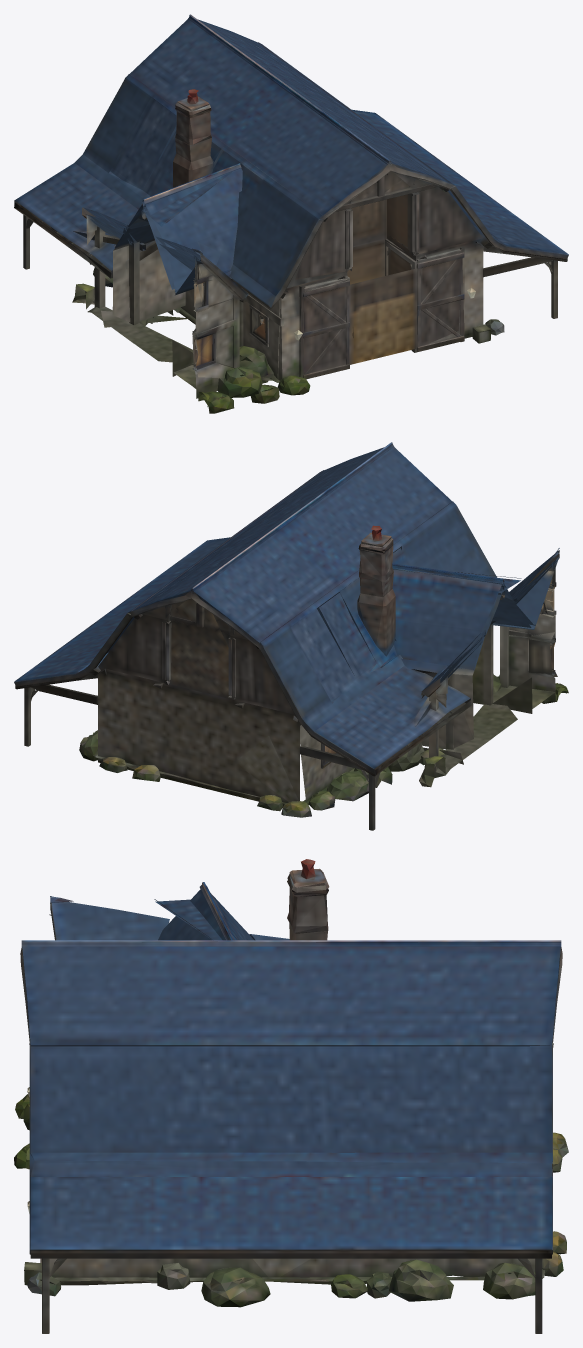
The model's file is barn_stable_game_lod2.glb.
3 renders of one model, top to bottom at view 1: azimuth 30°, elevation 25°; view 2: azimuth 150°, elevation 25°; view 3: azimuth 270°, elevation 25°, orthographic. The views are drawn at different scales.
Visible parts, largest first — view 1: geometry_0; view 2: geometry_0; view 3: geometry_0.
Part boxes in pixels (x1,y1,x2,y2): geometry_0: (14,14,568,413); geometry_0: (14,442,568,830); geometry_0: (14,859,568,1333).
Size of the model in its own units: 23.84 by 14.5 by 23.47.
1 material, 1 textured.
